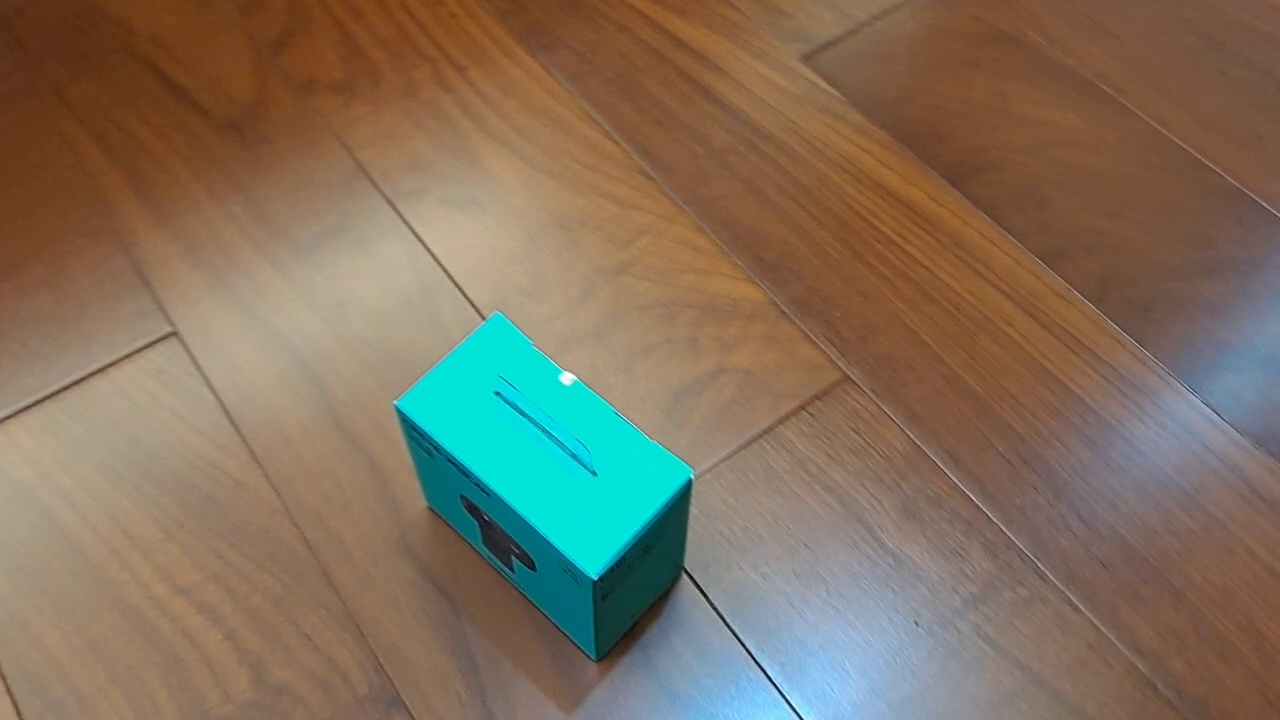webcam: (392, 309, 697, 664)
